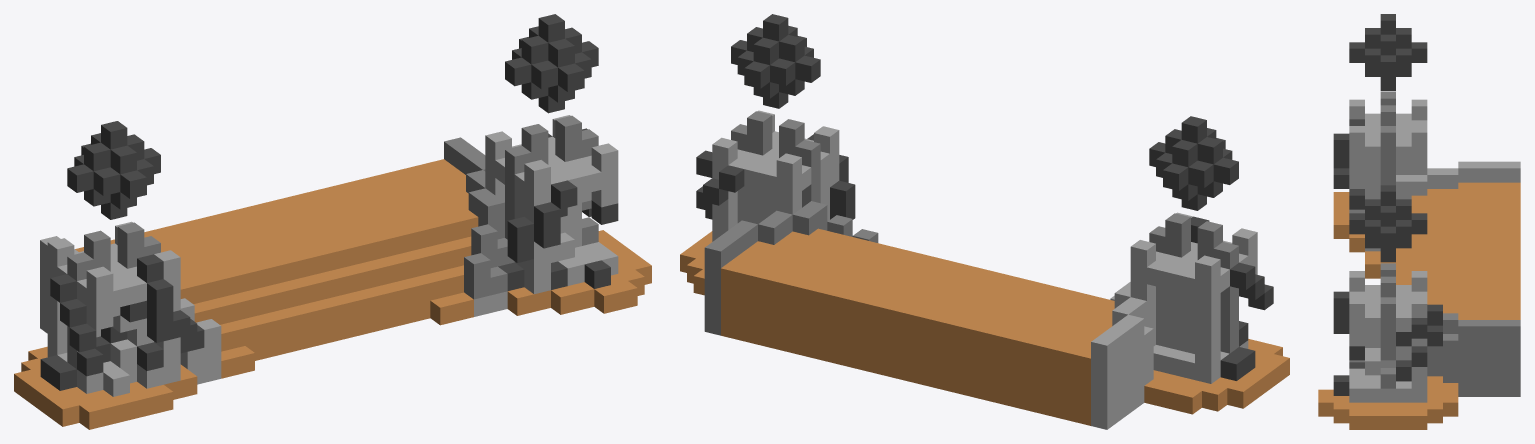
File: entrance.obj
3 renders of one model, left to right at view 1: azimuth 30°, elevation 25°; view 2: azimuth 150°, elevation 25°; view 3: azimuth 270°, elevation 25°, orthographic. The views are drawn at different scales.
Size of the model in its own units: 3.5 by 1.5 by 1.3.
